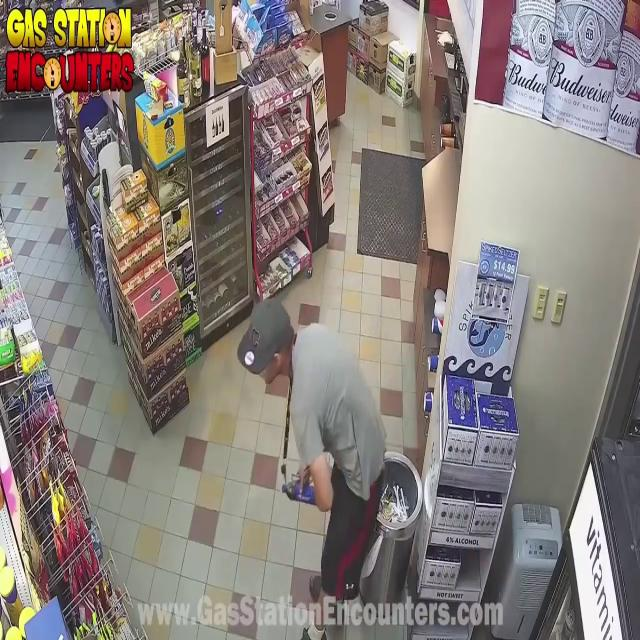Product: (280, 456, 314, 512)
shoplifting: (208, 195, 386, 640)
